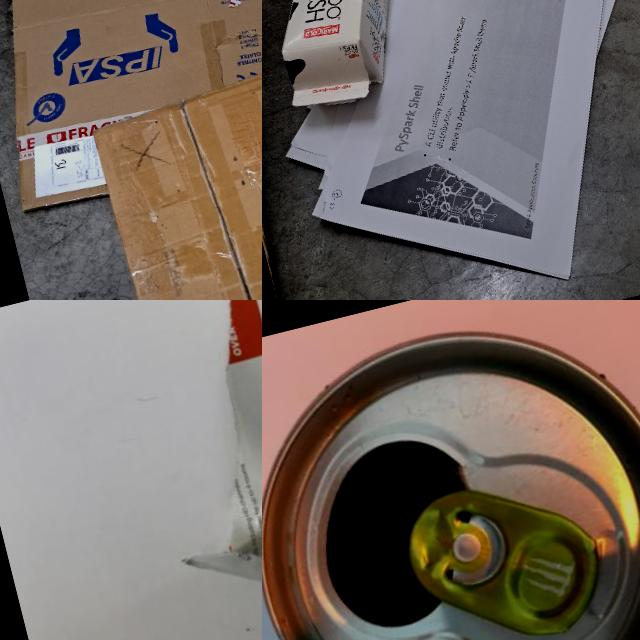aba de lata: (394, 461, 618, 640)
caixinha: (262, 0, 428, 117)
lata: (262, 300, 640, 640)
papel: (262, 0, 640, 300), (112, 300, 262, 640)
papelão: (0, 0, 262, 229), (89, 61, 262, 300)
